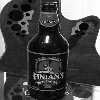beer: (27, 1, 78, 95)
